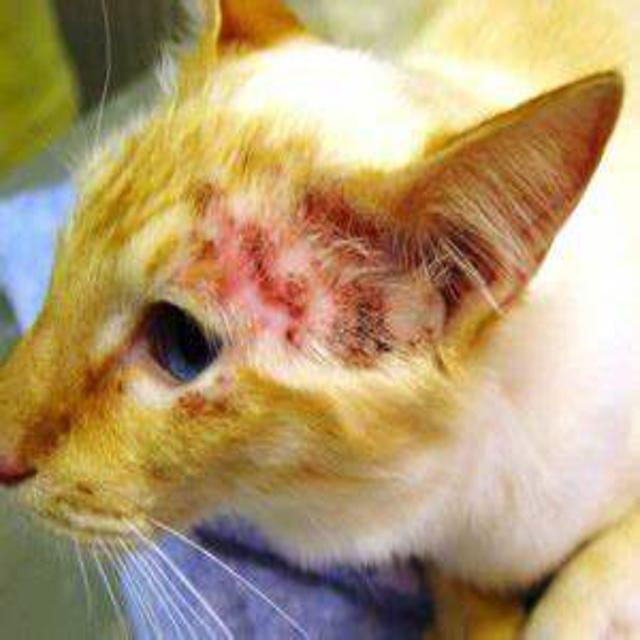ringworm: (166, 178, 403, 365)
